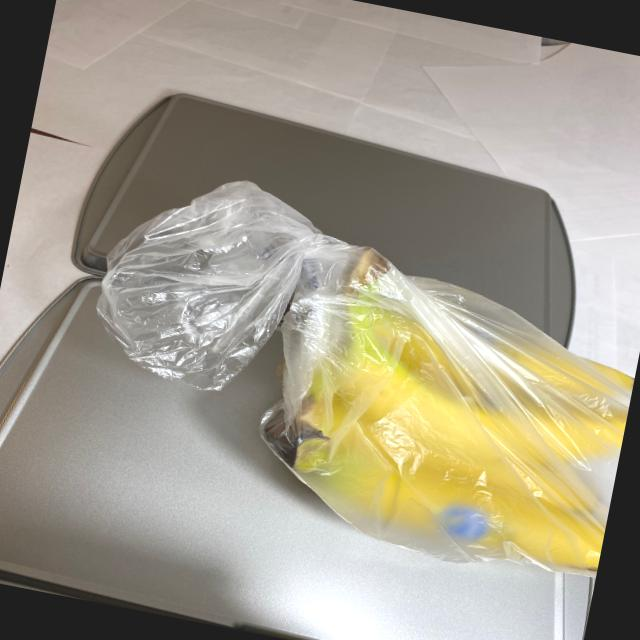banana: (236, 219, 640, 613)
